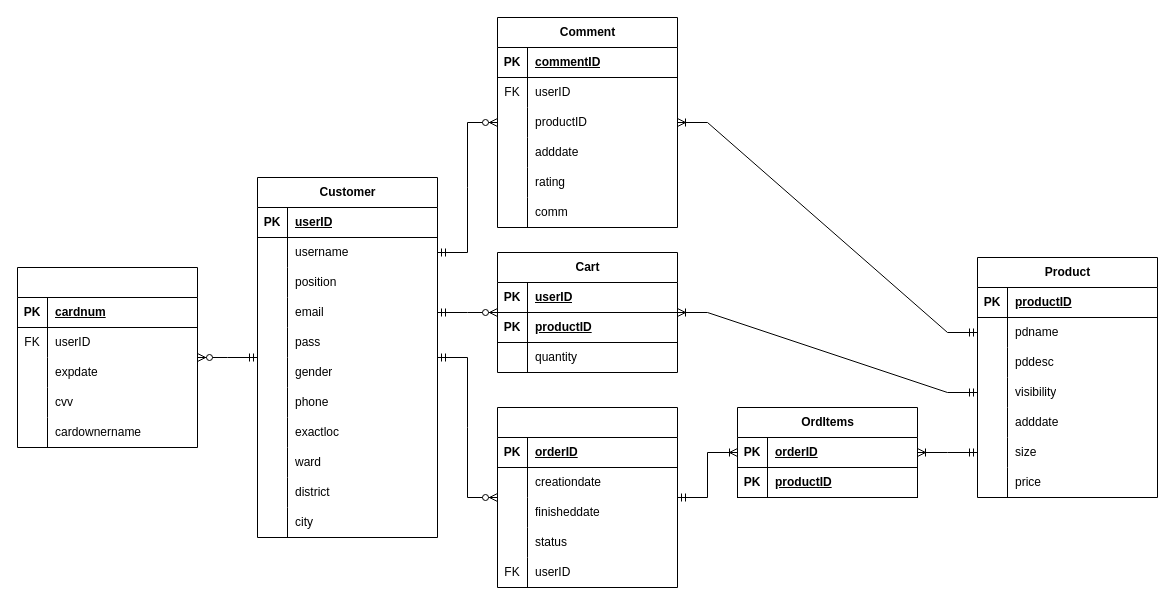
This 1175x605 diagram has some shape labels left out. Here are the shapes that lost their labels. From the top down, the box of each, then its label:
(16, 266, 198, 448): PaymentCard
(496, 406, 678, 588): Ords
